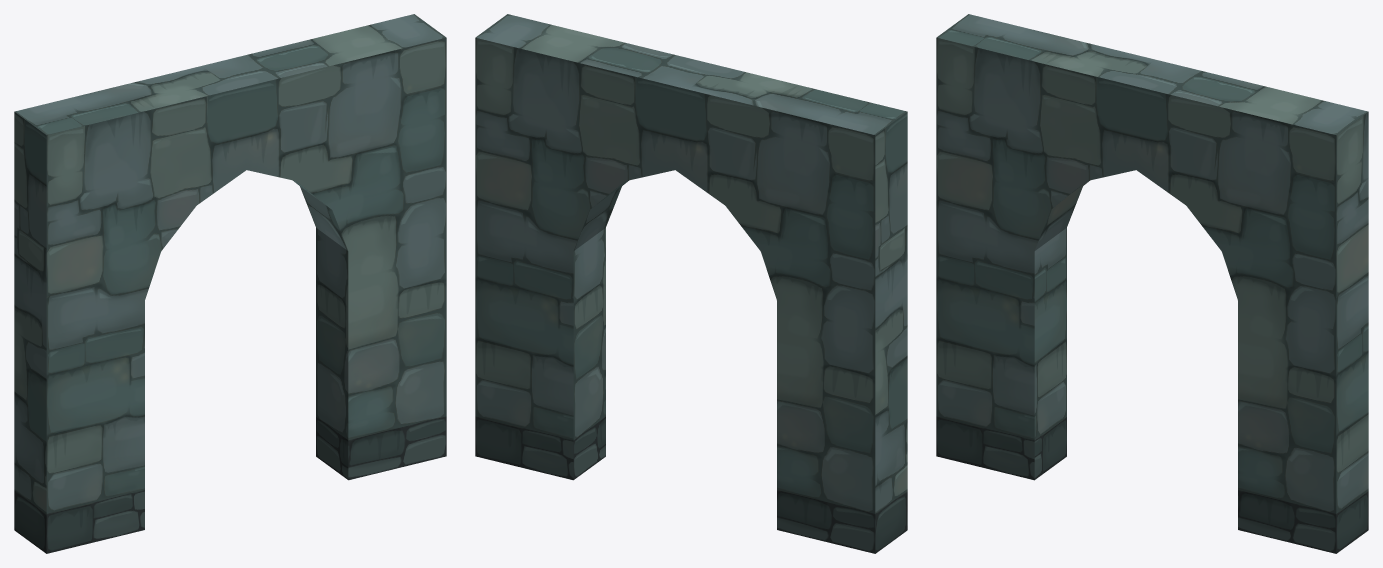
Rendered from Dg_01_wall_006.FBX.
3 renders of one model, left to right at view 1: azimuth 30°, elevation 25°; view 2: azimuth 150°, elevation 25°; view 3: azimuth 330°, elevation 25°, orthographic.
Visible parts, largest first — view 1: Dg_01_wall_006; view 2: Dg_01_wall_006; view 3: Dg_01_wall_006.
Boxes of the visible parts, left/top/right/bottom form: Dg_01_wall_006: left=14, top=14, right=446, bottom=553; Dg_01_wall_006: left=475, top=14, right=907, bottom=553; Dg_01_wall_006: left=936, top=14, right=1368, bottom=553.
Bounding box in the file's own units: 5 × 5 × 0.7001.
